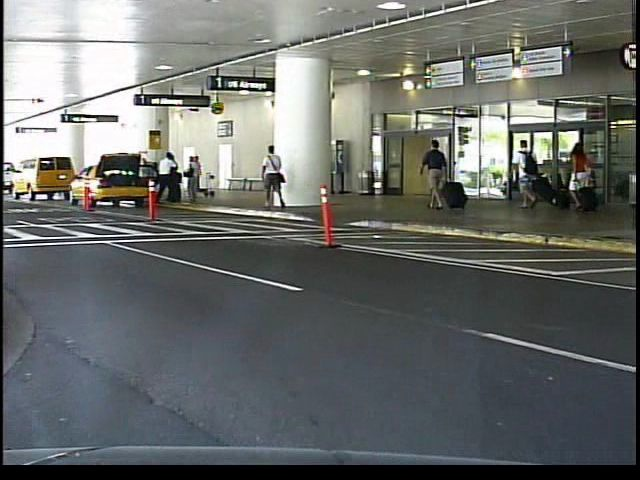person: (510, 135, 547, 214), (567, 132, 599, 220), (420, 136, 454, 212), (259, 141, 291, 214)
